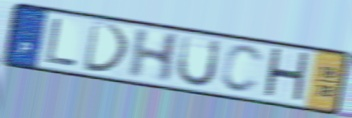C: (218, 43, 266, 96)
D: (81, 19, 132, 75)
H: (125, 28, 183, 85), (261, 46, 313, 107)
L: (42, 16, 79, 69)
U: (174, 33, 224, 89)
